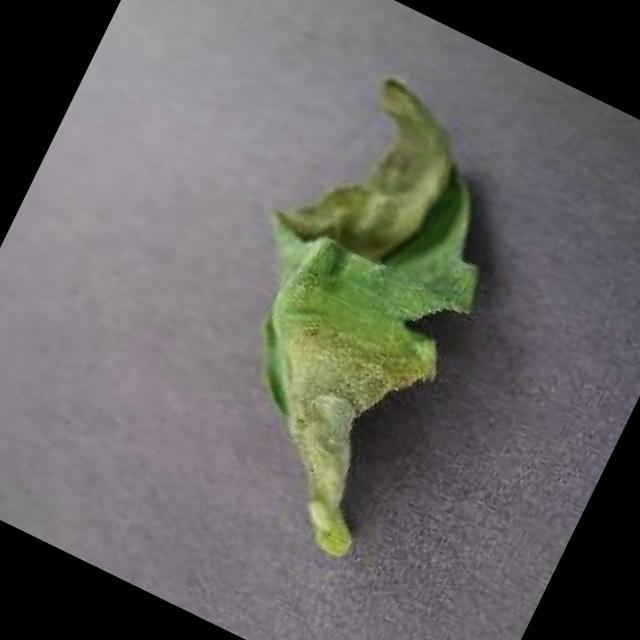Tomato healthy leaf: (144, 51, 554, 570)
